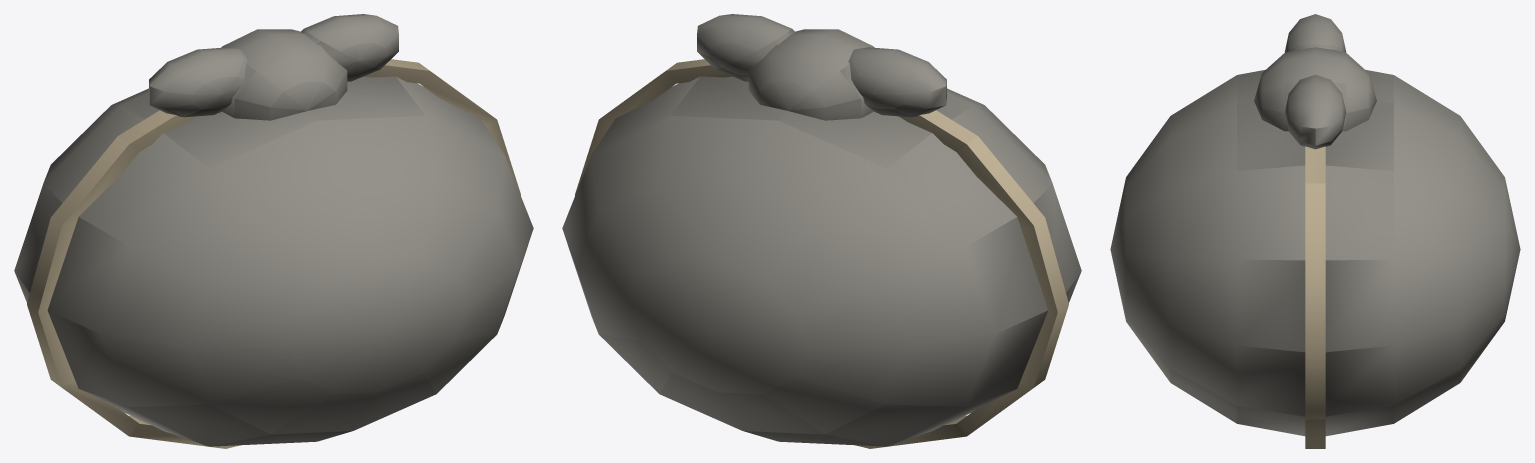
The model's file is bundle.glb.
The picture shows the model from 3 angles, left to right: view 1: azimuth 30°, elevation 25°; view 2: azimuth 150°, elevation 25°; view 3: azimuth 270°, elevation 25°; orthographic projection. The views are drawn at different scales.
Visible parts, largest first — view 1: static; view 2: static; view 3: static.
Part boxes in pixels (x1,y1,x2,y2): static: (14,14,533,448); static: (562,14,1081,448); static: (1110,14,1520,448).
Bounding box in the file's own units: 0.4945 × 0.3882 × 0.4.
